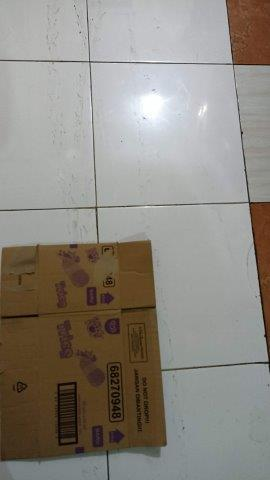kardus: (1, 242, 166, 458)
